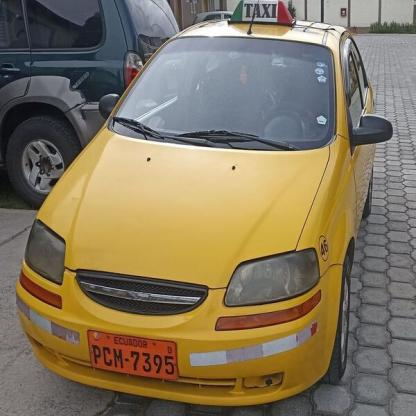Placa: (85, 330, 183, 388)
